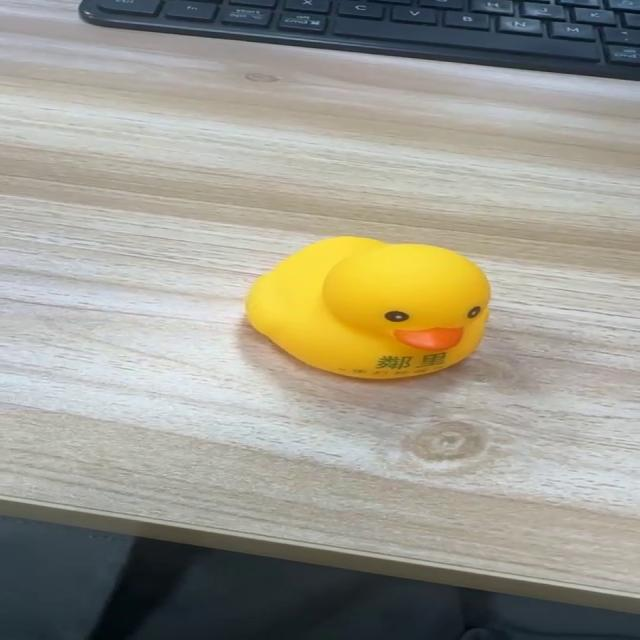yellow_duck: (242, 234, 492, 380)
